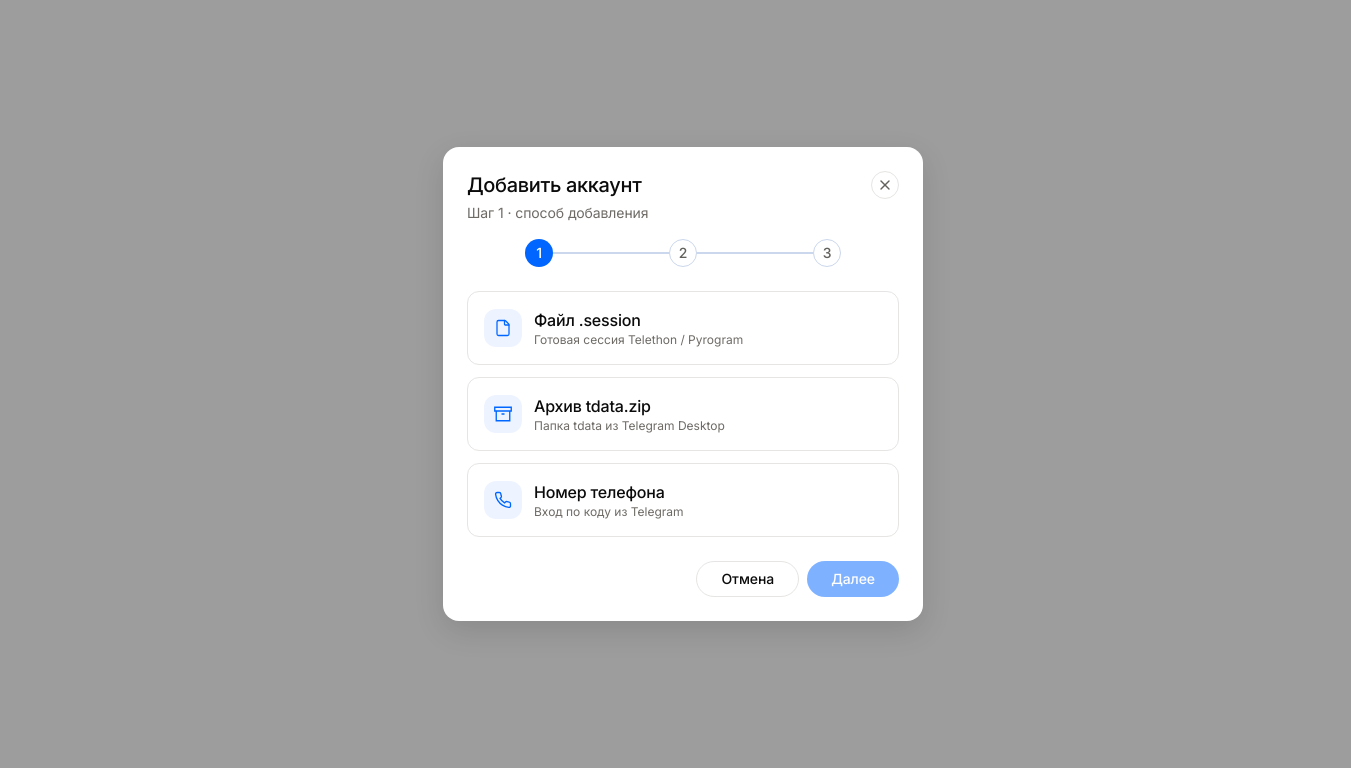
Test: switching method after an account was created re-locks Next
Click the text "Номер телефона" at (599, 492), box [534,482,665,502]
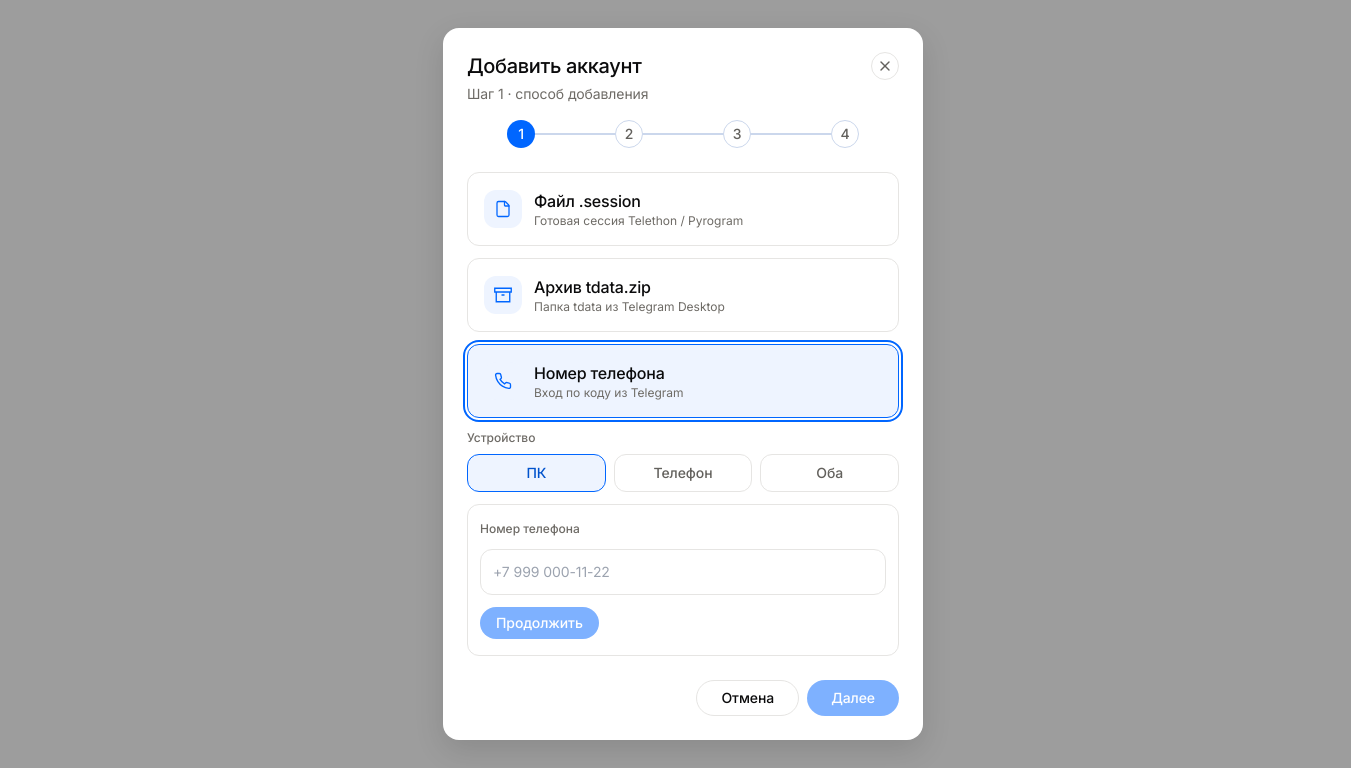
Type "+79990001122" into the field with placeholder "+7 999 000-11-22" at (683, 572), box [480,549,886,595]
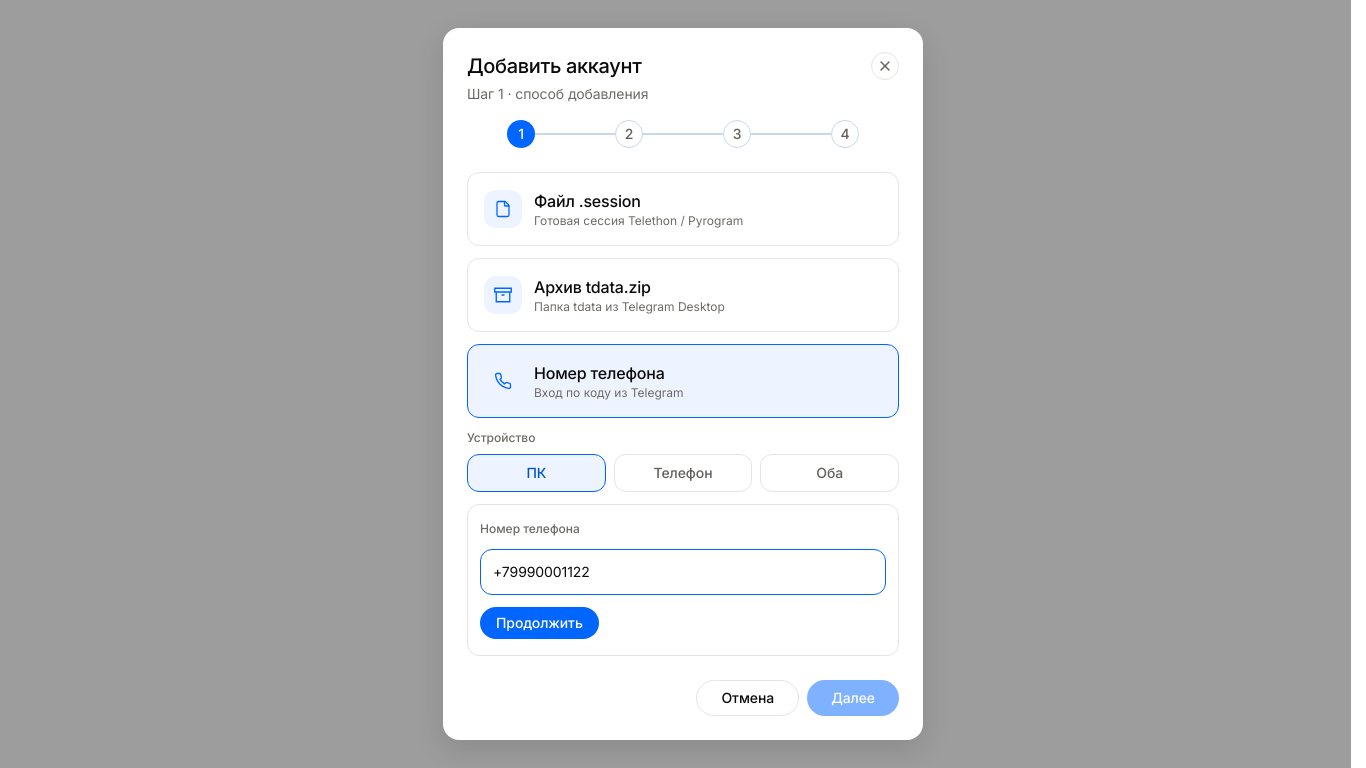
Click the button "Продолжить" at (539, 623), box [480,607,599,639]
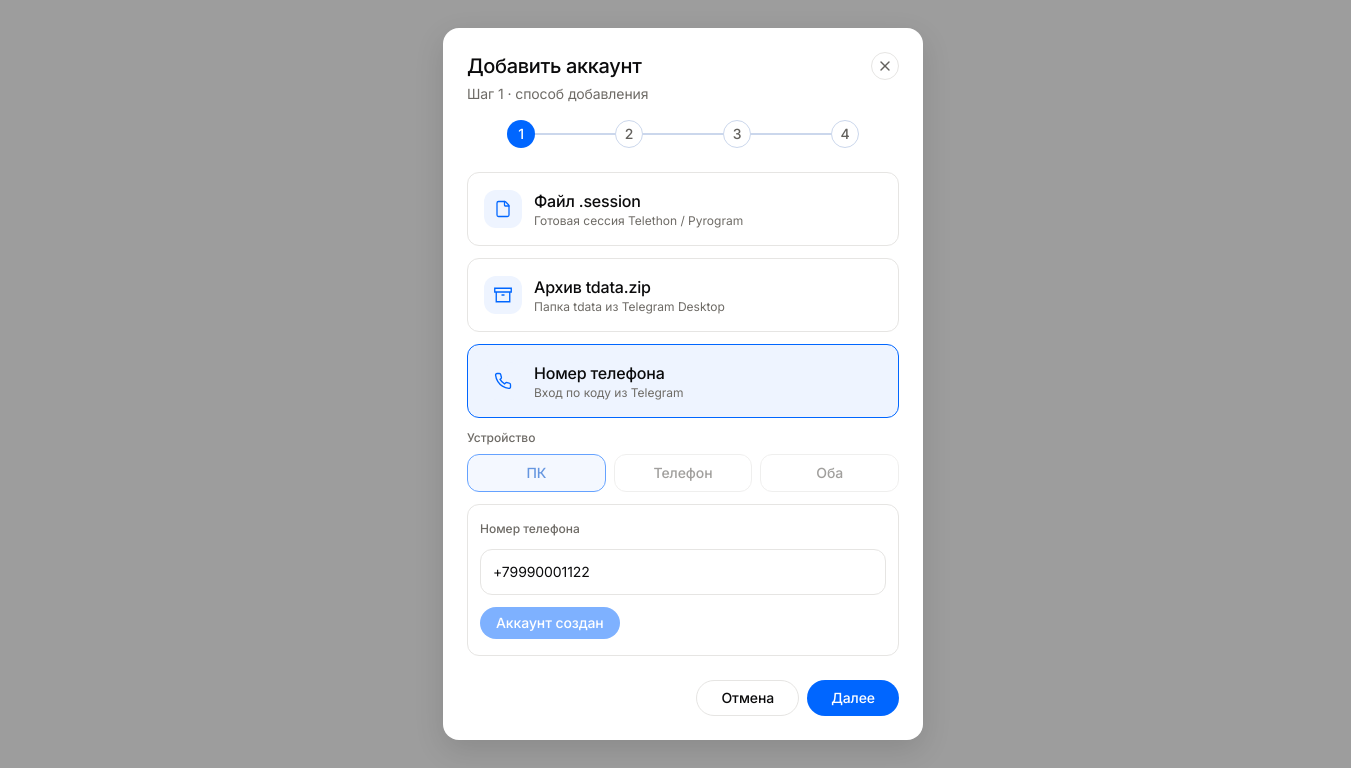
Expected: the button "Далее" is enabled
# Step 2, back to step 1, then pick a file method without importing anything.
Click the button "Далее" at (853, 698), box [807,680,899,716]
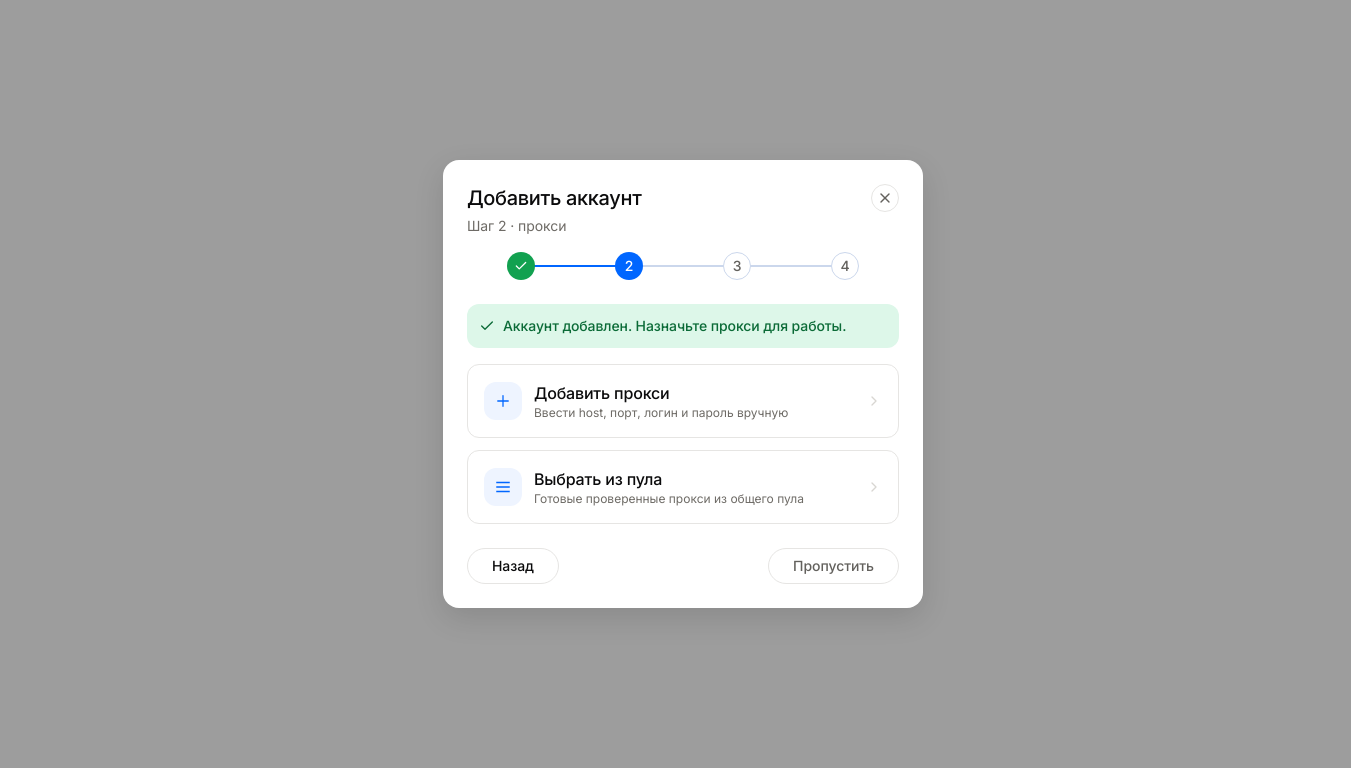
Click the button "Назад" at (513, 566), box [467,548,559,584]
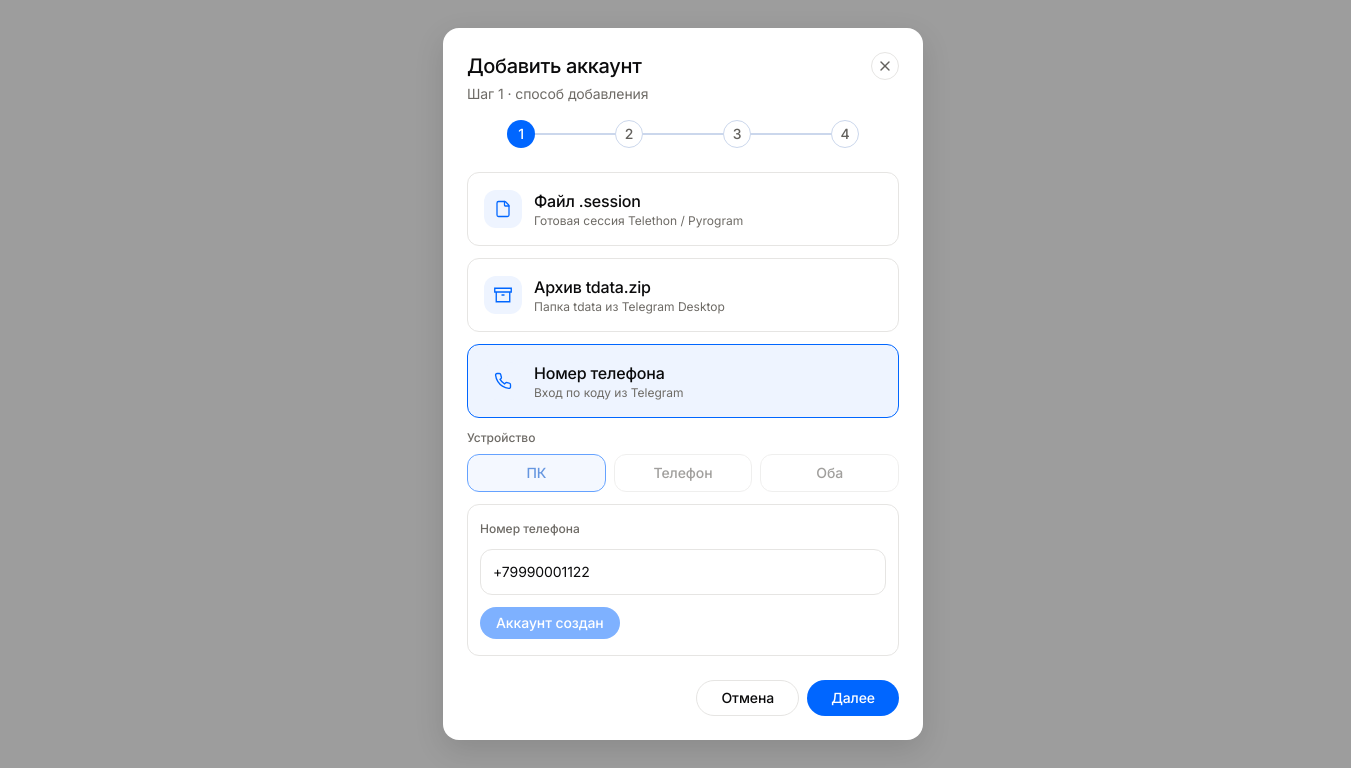
Click the text "Файл .session" at (587, 201), box [534,191,641,211]
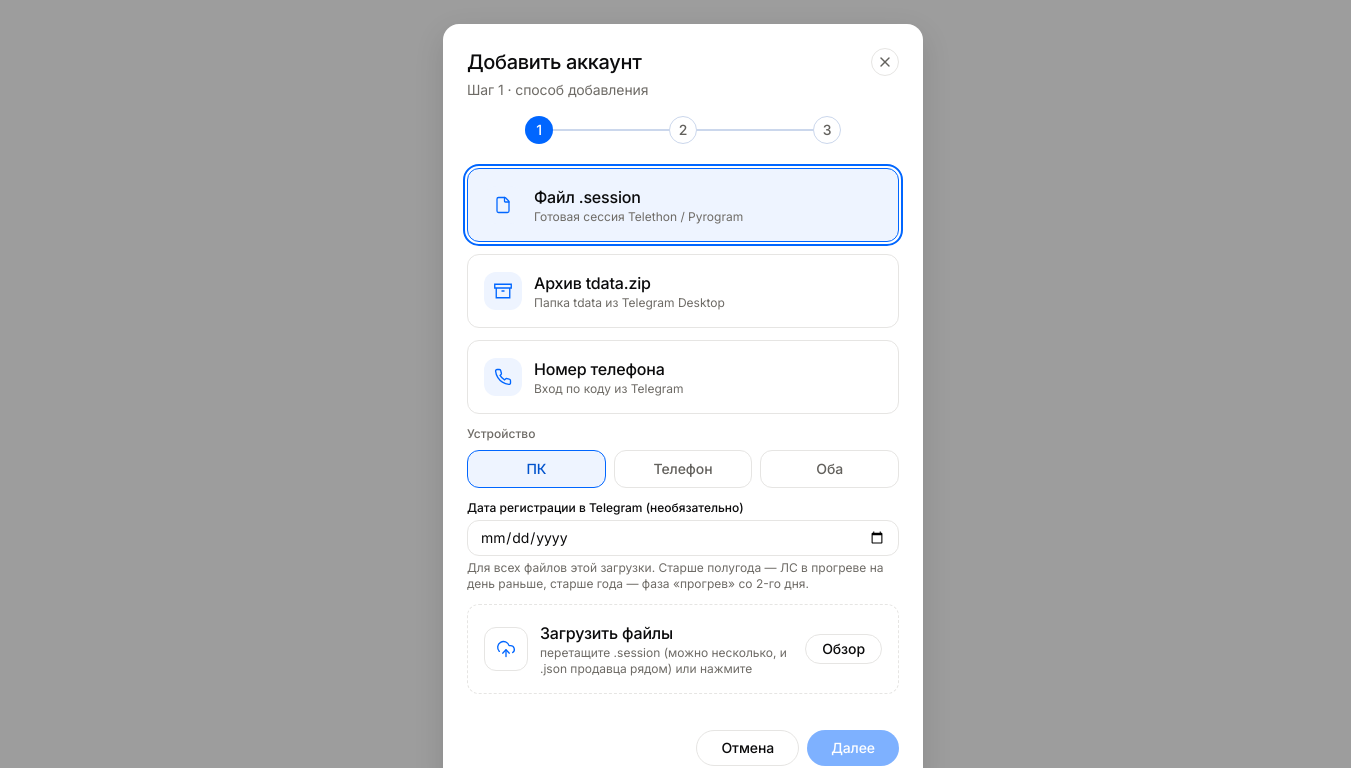
Expected: the text "Аккаунт добавлен. Назначьте прокси для работы." is not shown
Expected: the button "Далее" is disabled, [807,730,899,766]
